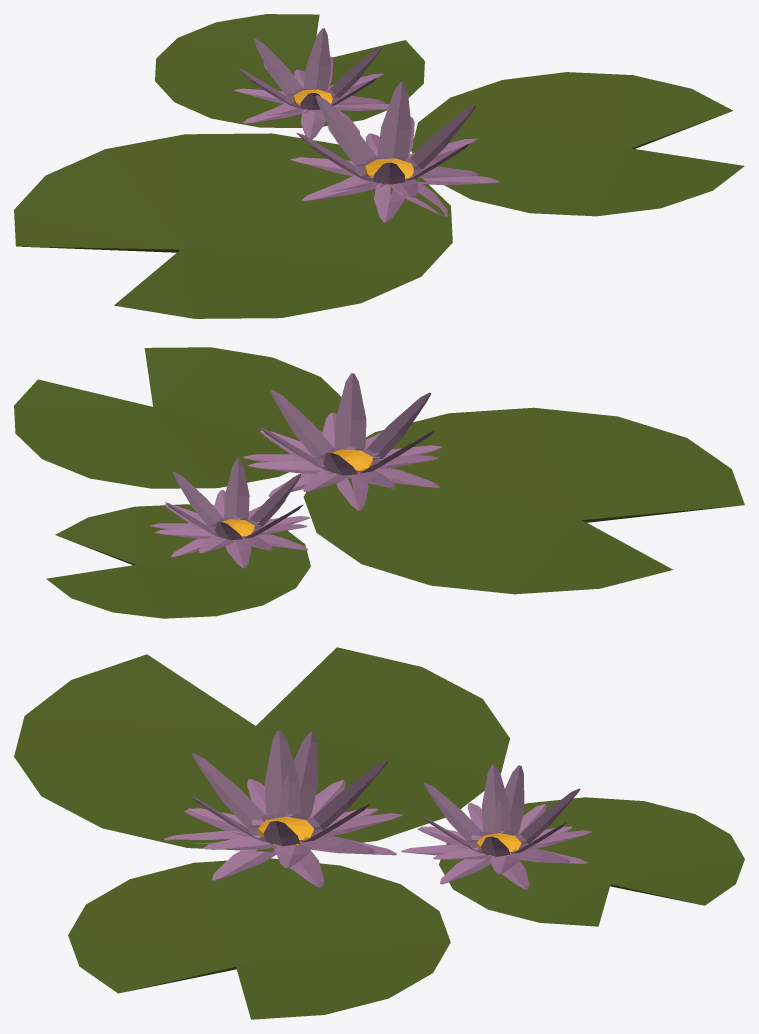
Rendered from Nenuphard 3.fbx.
The picture shows the model from 3 angles, top to bottom: view 1: azimuth 30°, elevation 25°; view 2: azimuth 150°, elevation 25°; view 3: azimuth 270°, elevation 25°; orthographic projection. The views are drawn at different scales.
Parts seen in each view (by area): view 1: Circle.005; view 2: Circle.005; view 3: Circle.005.
Boxes of the visible parts, x1=… form: Circle.005: x1=14, y1=14, x2=744, y2=318; Circle.005: x1=14, y1=347, x2=744, y2=618; Circle.005: x1=14, y1=647, x2=744, y2=1019.
Bounding box in the file's own units: 357 × 34 × 298.
